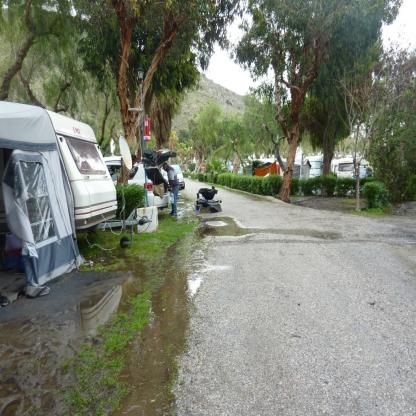Car: (107, 164, 171, 215), (105, 150, 177, 177), (339, 158, 375, 180), (164, 166, 187, 193), (303, 154, 325, 178)
